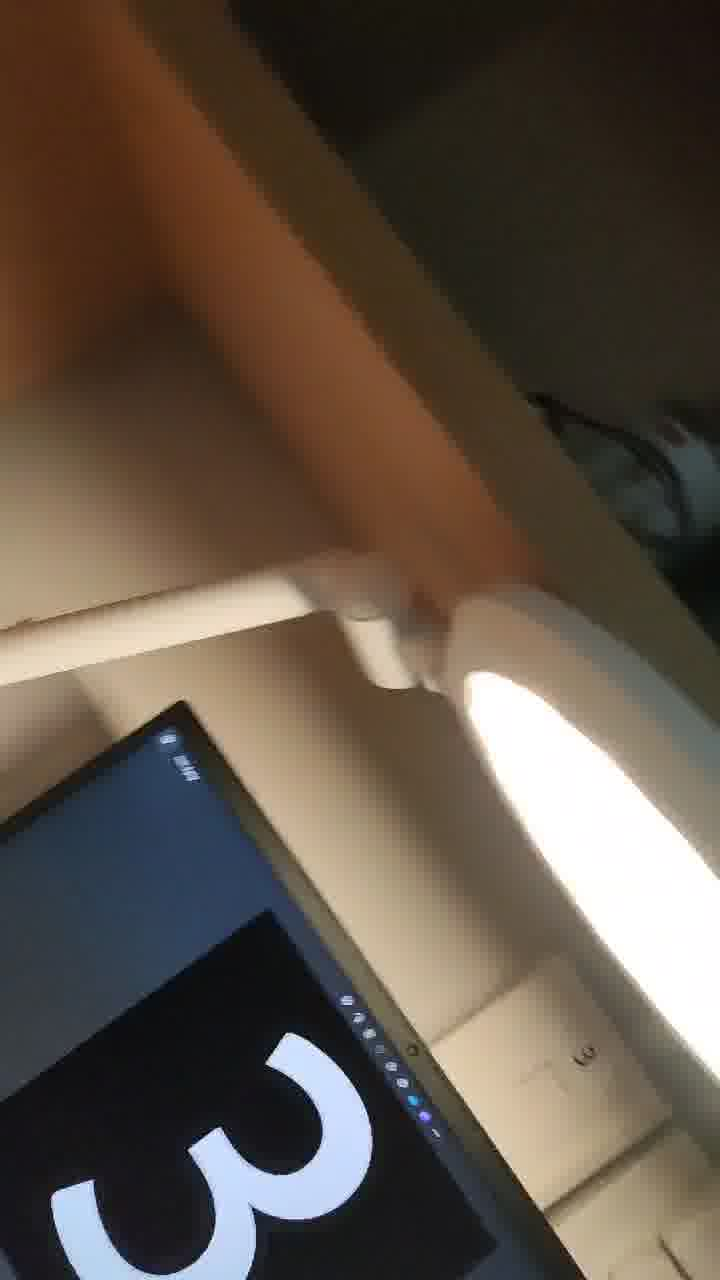three: (58, 967, 420, 1276)
